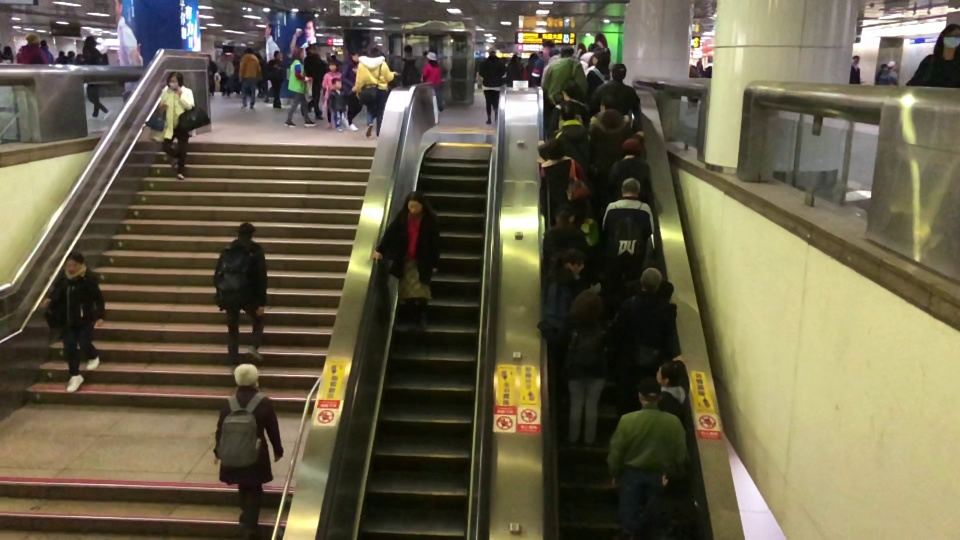person_head: (570, 287, 603, 321), (660, 462, 690, 493), (636, 375, 663, 408), (559, 247, 585, 276), (232, 362, 258, 389), (654, 361, 680, 388), (639, 266, 663, 294), (537, 139, 565, 161), (938, 23, 960, 49), (64, 250, 85, 275), (405, 191, 425, 215), (619, 177, 641, 198), (554, 203, 575, 225), (598, 92, 617, 113), (620, 137, 641, 156), (559, 100, 577, 122), (237, 221, 256, 241), (165, 70, 183, 90), (561, 79, 578, 100), (610, 62, 627, 82), (592, 51, 610, 68), (24, 32, 40, 46), (366, 42, 380, 58), (542, 40, 555, 55), (83, 35, 97, 48), (291, 47, 304, 61), (305, 43, 320, 55), (348, 49, 360, 64), (560, 46, 575, 58), (599, 47, 611, 62), (326, 60, 339, 73), (425, 51, 437, 65), (527, 53, 539, 66), (331, 77, 342, 91), (403, 44, 414, 57), (508, 54, 520, 65), (548, 46, 560, 57), (588, 42, 600, 52), (886, 60, 896, 71), (2, 45, 12, 54), (487, 47, 497, 56), (851, 55, 860, 65), (39, 39, 48, 48), (223, 44, 232, 53), (273, 50, 280, 60), (57, 50, 65, 58), (67, 50, 75, 58), (880, 63, 888, 71), (245, 47, 253, 54), (690, 65, 696, 73), (696, 61, 702, 69), (705, 65, 712, 71), (207, 54, 212, 62)
person_vbox: (604, 375, 689, 540), (535, 287, 616, 452), (212, 362, 284, 540), (600, 266, 677, 416), (371, 191, 442, 337), (37, 250, 105, 394), (601, 177, 655, 327), (220, 221, 268, 366), (634, 462, 704, 540), (537, 139, 592, 227), (543, 247, 601, 330), (157, 70, 197, 181), (355, 42, 401, 137), (540, 203, 592, 287), (588, 92, 644, 168), (605, 136, 652, 217), (537, 100, 592, 168), (905, 23, 960, 88), (589, 62, 640, 132), (540, 46, 588, 106), (546, 79, 591, 140), (283, 46, 316, 129), (81, 34, 111, 120), (654, 361, 690, 427), (300, 43, 329, 120), (478, 47, 506, 125), (339, 49, 363, 131), (320, 60, 344, 128), (238, 47, 261, 110), (421, 51, 443, 112), (583, 51, 612, 96), (393, 44, 421, 87), (326, 77, 347, 132), (530, 40, 555, 86), (16, 32, 48, 65), (216, 44, 234, 97), (269, 50, 284, 109), (599, 46, 617, 82), (523, 53, 540, 87), (579, 43, 601, 69), (506, 54, 522, 87), (877, 60, 896, 85), (207, 54, 218, 97), (687, 65, 698, 108), (847, 55, 860, 84), (39, 39, 53, 64), (874, 63, 888, 84), (547, 46, 561, 65), (0, 45, 14, 63), (54, 50, 69, 64), (701, 64, 712, 78), (67, 50, 77, 65), (696, 60, 704, 78)
